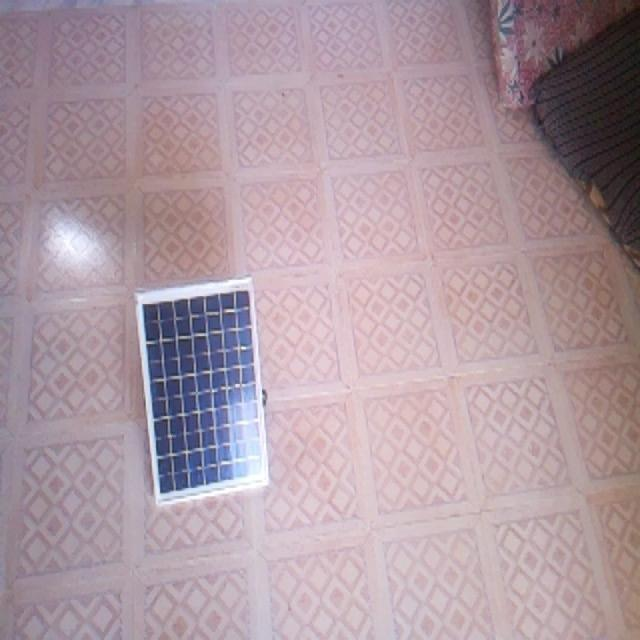Normal Solar Panel: (137, 279, 268, 504)
